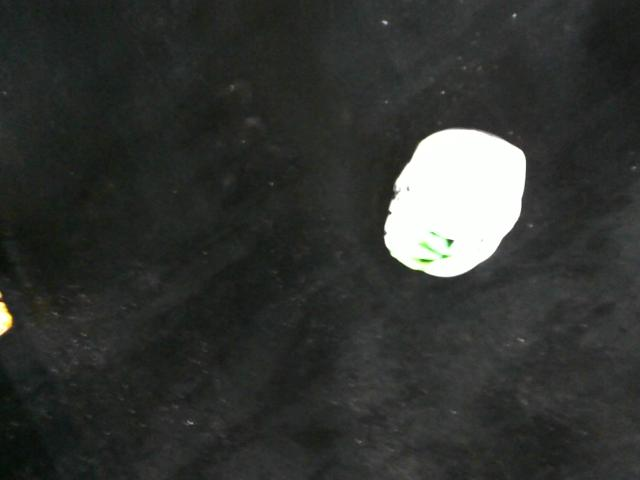can: (368, 117, 538, 288)
